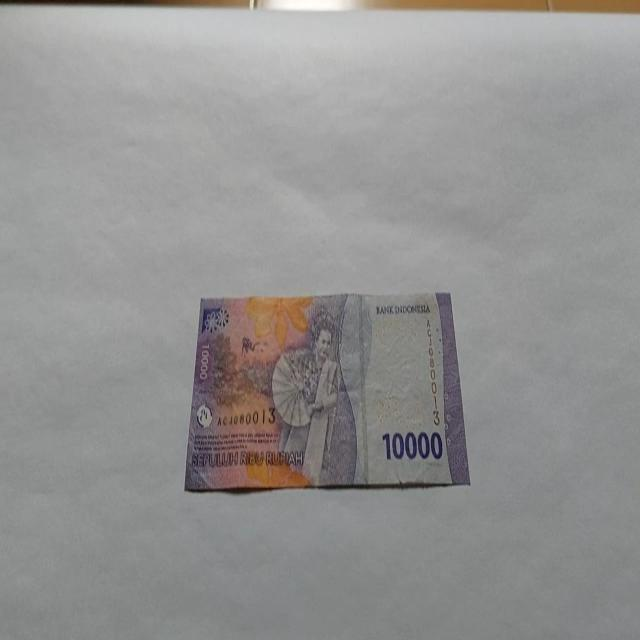Kertas: (183, 290, 471, 492), (381, 428, 443, 462)
